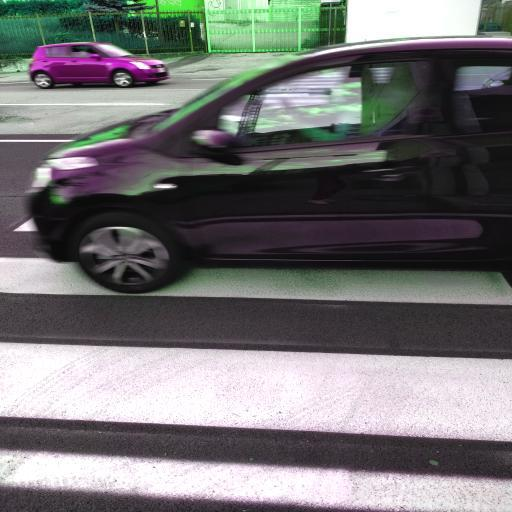crosswalk: (1, 255, 511, 457)
